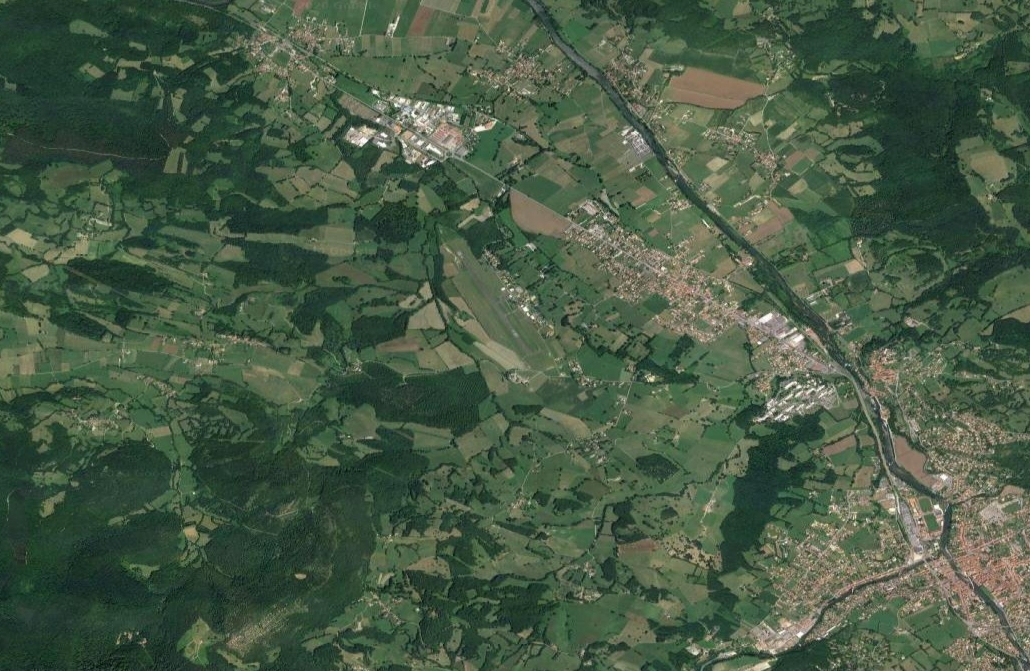airport: (454, 248, 536, 371)
